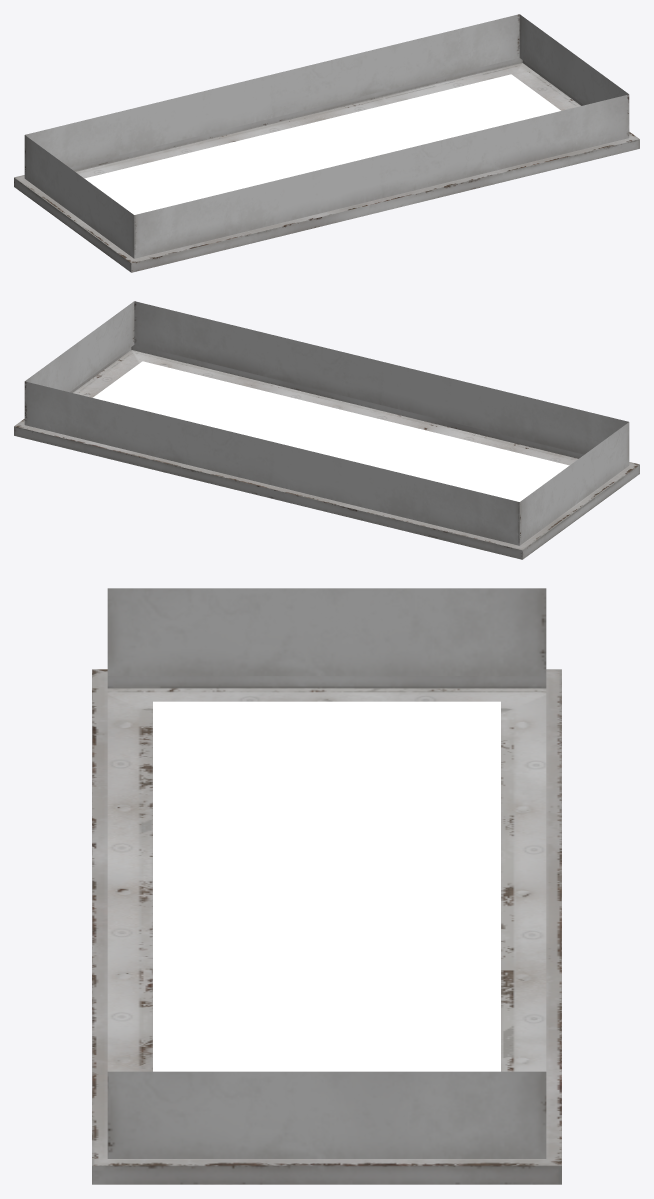
The model's file is SM_Light_01_B.fbx.
The picture shows the model from 3 angles, top to bottom: view 1: azimuth 30°, elevation 25°; view 2: azimuth 150°, elevation 25°; view 3: azimuth 270°, elevation 25°; orthographic projection. The views are drawn at different scales.
Visible parts, largest first — view 1: SM_Light_01_B; view 2: SM_Light_01_B; view 3: SM_Light_01_B.
Part boxes in pixels (<box>): SM_Light_01_B: <box>14,14,639,272</box>; SM_Light_01_B: <box>14,301,639,559</box>; SM_Light_01_B: <box>92,588,561,1184</box>.
Size of the model in its own units: 120 by 48 by 12.
Materials: 1 (1 with a texture image).
